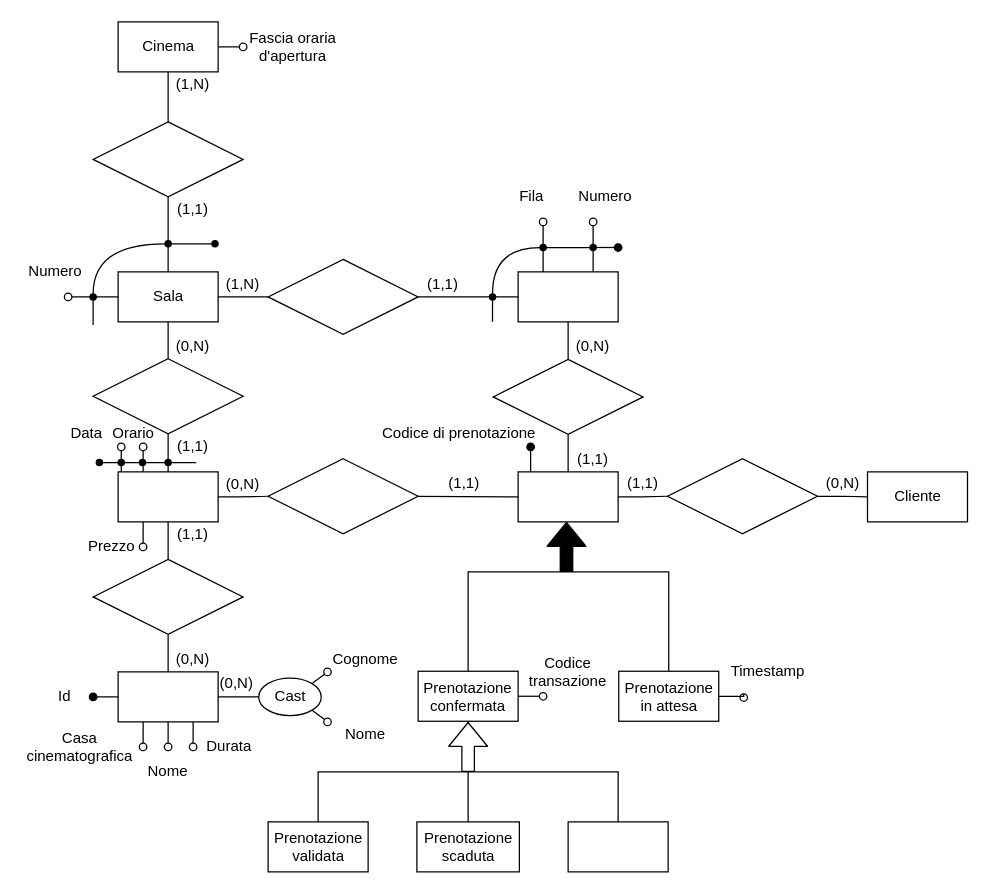
The diagram is 990 pixels wide and 894 high, and some of its shapes have lost their labels. The shapes that lost their labels are listed below. From the top down, each one's centre as x and y in pixels, then its label:
point (567, 296): Posto
point (167, 496): Proiezione
point (567, 496): Prenotazione
point (167, 696): Film
point (617, 846): Prenotazione annullata
